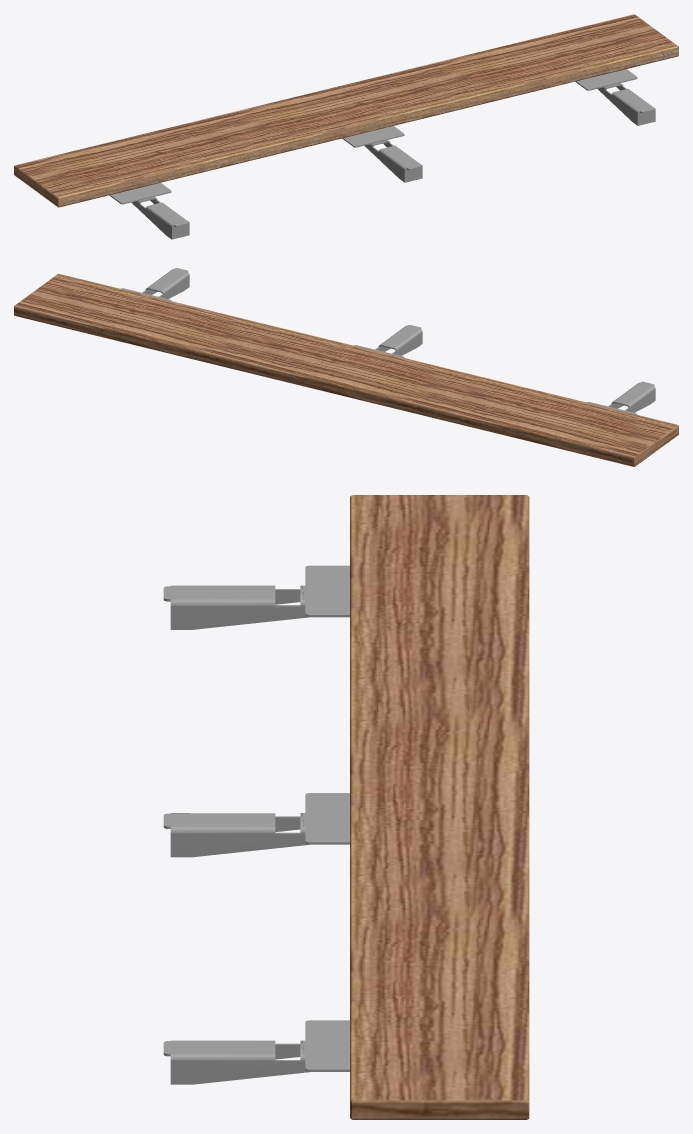
File: 160x90_topdorsa_finalalp.fbx
3 renders of one model, top to bottom at view 1: azimuth 30°, elevation 25°; view 2: azimuth 150°, elevation 25°; view 3: azimuth 270°, elevation 25°, orthographic. The views are drawn at different scales.
Visible parts, largest first — view 1: blat_mesh, metal_mesh; view 2: blat_mesh, metal_mesh; view 3: blat_mesh, metal_mesh.
Part boxes in pixels (bbox=[...]): blat_mesh: bbox=[14, 14, 678, 207]; metal_mesh: bbox=[109, 52, 672, 239]; blat_mesh: bbox=[14, 273, 678, 466]; metal_mesh: bbox=[121, 268, 655, 414]; blat_mesh: bbox=[350, 495, 529, 1119]; metal_mesh: bbox=[163, 565, 349, 1084].
Bounding box in the file's own units: 160 × 6.3 × 40.8.
